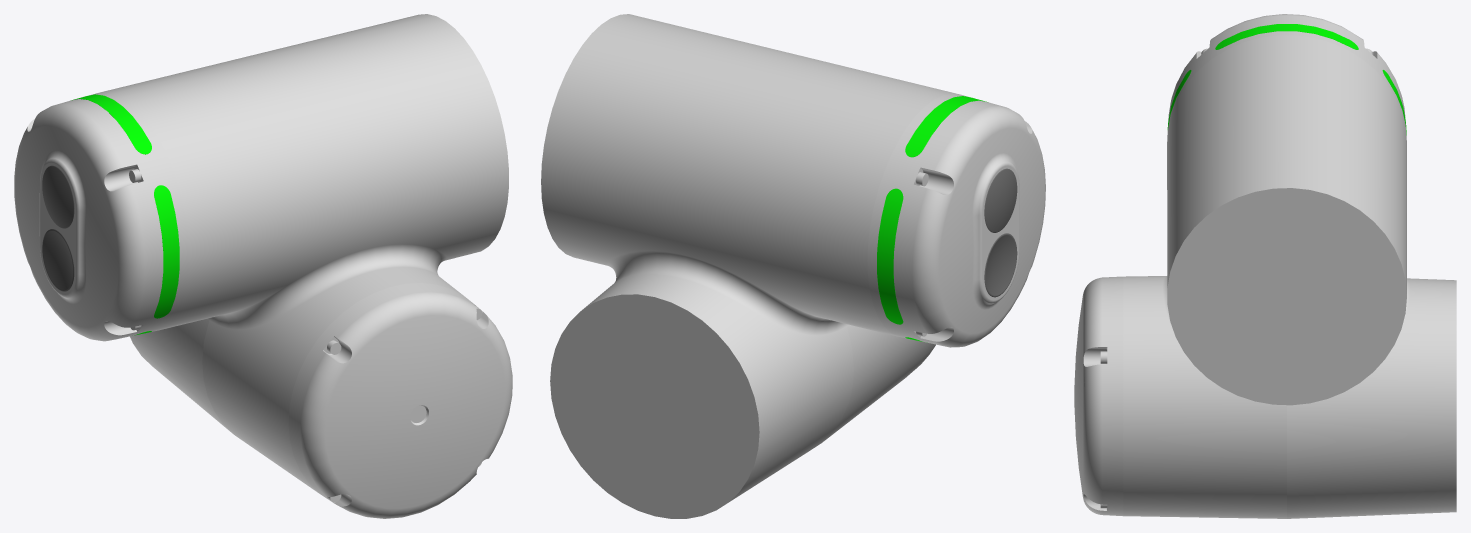
The picture shows the model from 3 angles, left to right: view 1: azimuth 30°, elevation 25°; view 2: azimuth 150°, elevation 25°; view 3: azimuth 270°, elevation 25°; orthographic projection. The views are drawn at different scales.
Parts seen in each view (by area): view 1: ID2; view 2: ID2; view 3: ID2.
Part boxes in pixels (<box>): ID2: <box>14,14,512,518</box>; ID2: <box>541,14,1045,518</box>; ID2: <box>1074,14,1456,518</box>.
Bounding box in the file's own units: 0.1955 × 0.168 × 0.1867.
